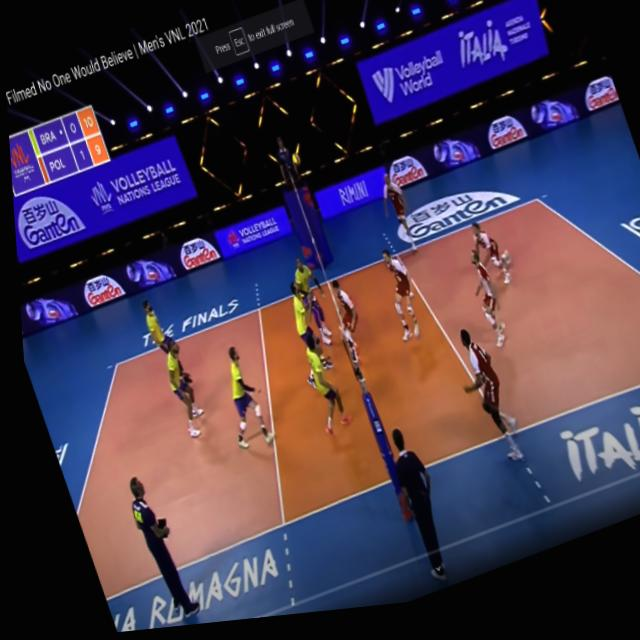player: (439, 325, 524, 483), (205, 344, 269, 460), (291, 330, 349, 452), (371, 244, 428, 362), (150, 338, 206, 452), (456, 252, 511, 365), (278, 284, 331, 392), (283, 257, 333, 359), (462, 220, 516, 305), (370, 176, 418, 262), (133, 295, 172, 374), (326, 281, 364, 359)
